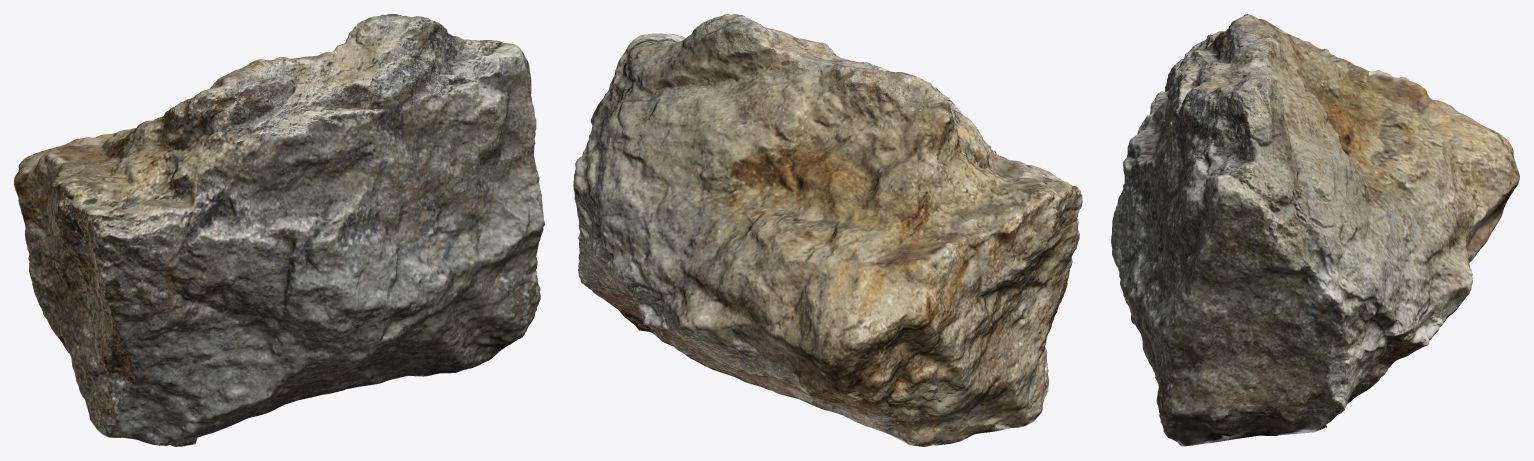
File: sparse3.glb
3 renders of one model, left to right at view 1: azimuth 30°, elevation 25°; view 2: azimuth 150°, elevation 25°; view 3: azimuth 270°, elevation 25°, orthographic. The views are drawn at different scales.
Size of the model in its own units: 3.99 by 2.91 by 3.02.
1 material, 1 textured.
